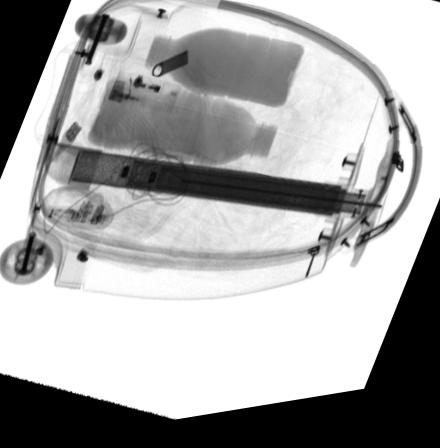Lighter: (107, 74, 182, 116)
